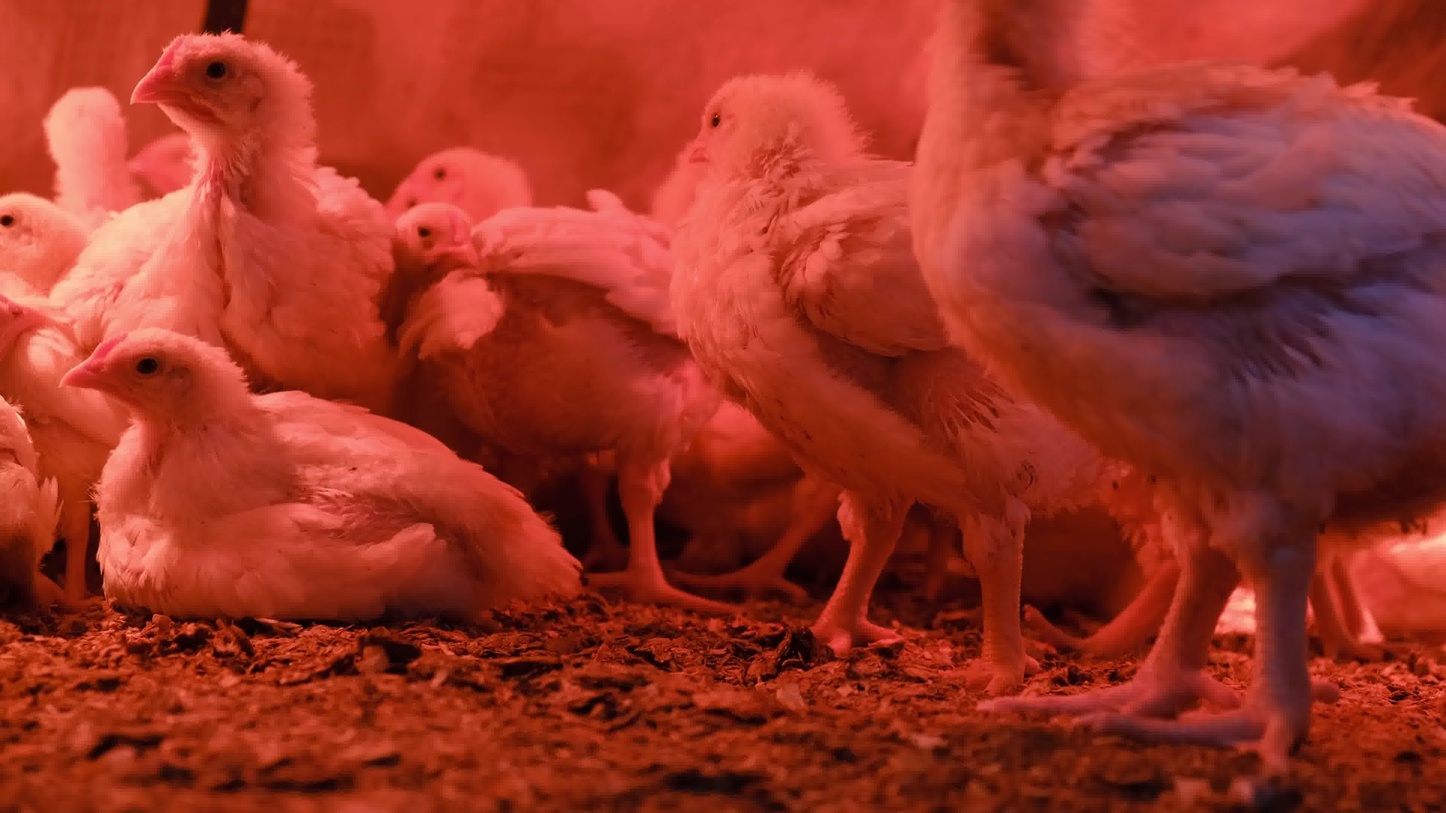AbNormal: (55, 307, 587, 642), (0, 265, 77, 655)
Normal: (913, 0, 1444, 790), (635, 58, 1096, 687), (482, 158, 761, 629), (79, 30, 424, 390), (390, 109, 586, 269), (365, 183, 518, 356), (109, 115, 256, 263), (8, 72, 147, 201), (0, 164, 115, 318)
